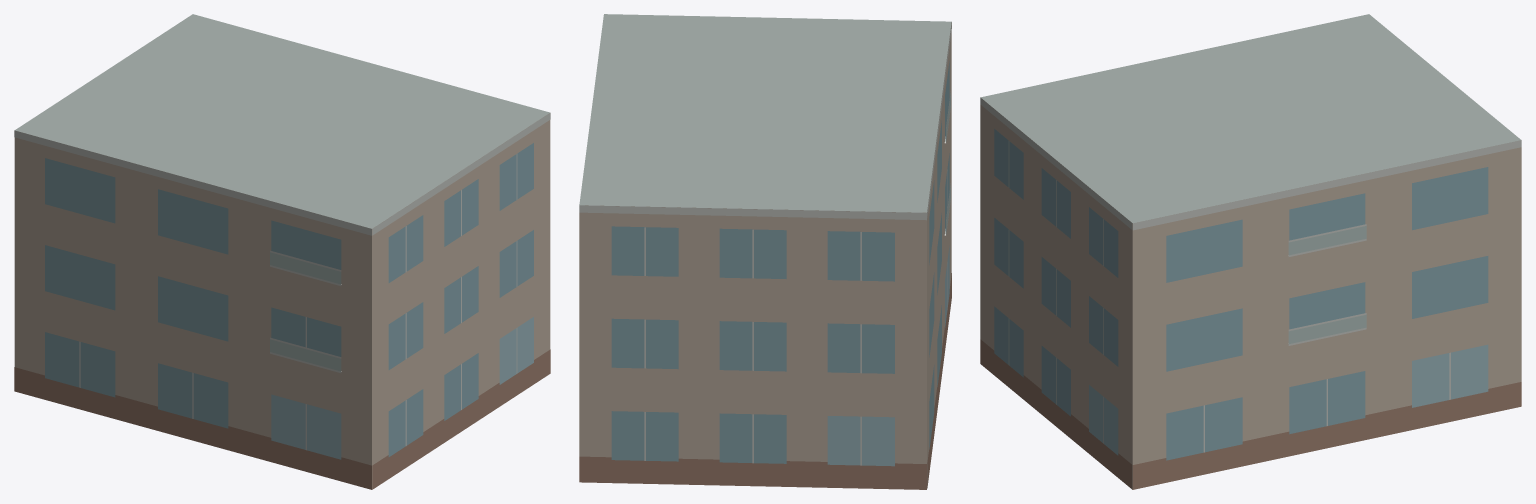
Rendered from survey-upis-32984357.glb.
The picture shows the model from 3 angles, left to right: view 1: azimuth 30°, elevation 25°; view 2: azimuth 150°, elevation 25°; view 3: azimuth 270°, elevation 25°; orthographic projection. The views are drawn at different scales.
Visible parts, largest first — view 1: survey-upis-32984357.tmp; view 2: survey-upis-32984357.tmp; view 3: survey-upis-32984357.tmp.
Part boxes in pixels (bbox=[...]): survey-upis-32984357.tmp: bbox=[14, 14, 550, 489]; survey-upis-32984357.tmp: bbox=[579, 14, 951, 489]; survey-upis-32984357.tmp: bbox=[980, 14, 1521, 489].
Bounding box in the file's own units: 15.42 × 9.15 × 16.85.
